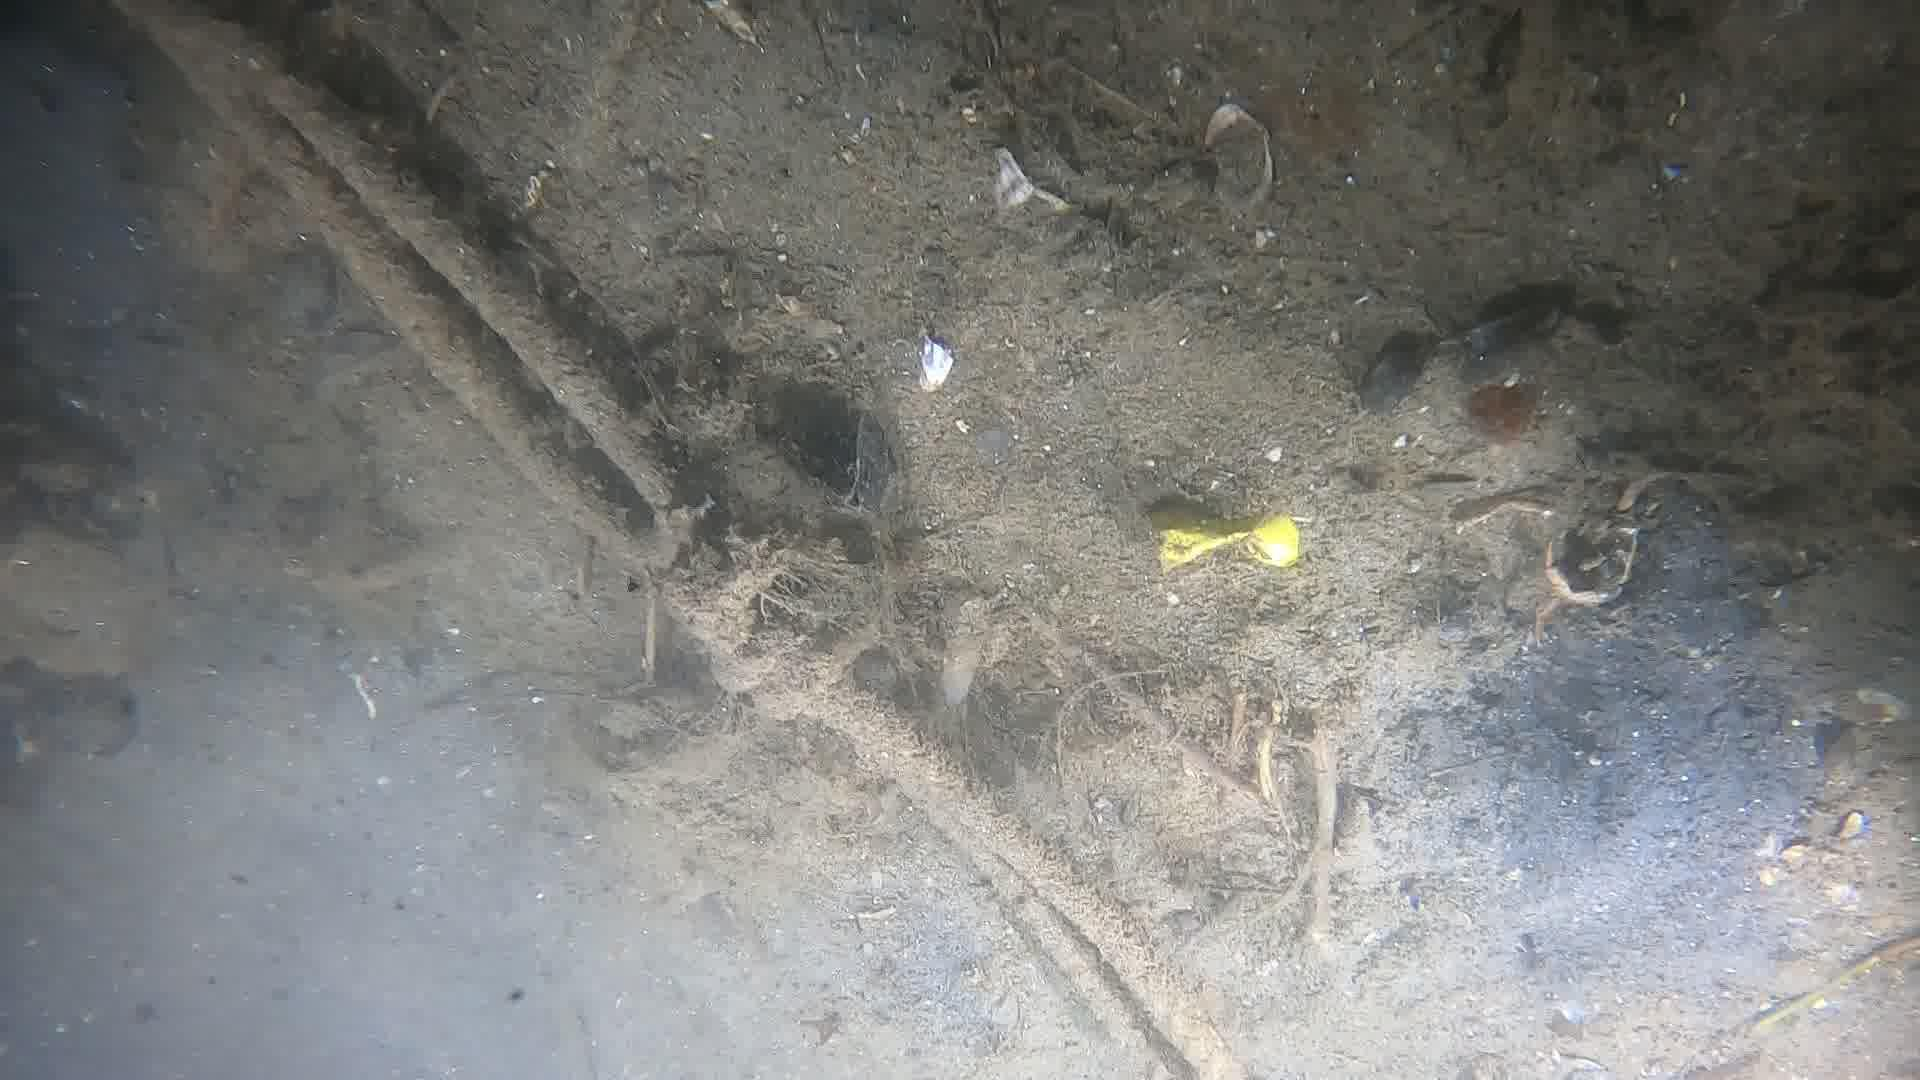bundle of ropes: (112, 0, 1240, 1080)
